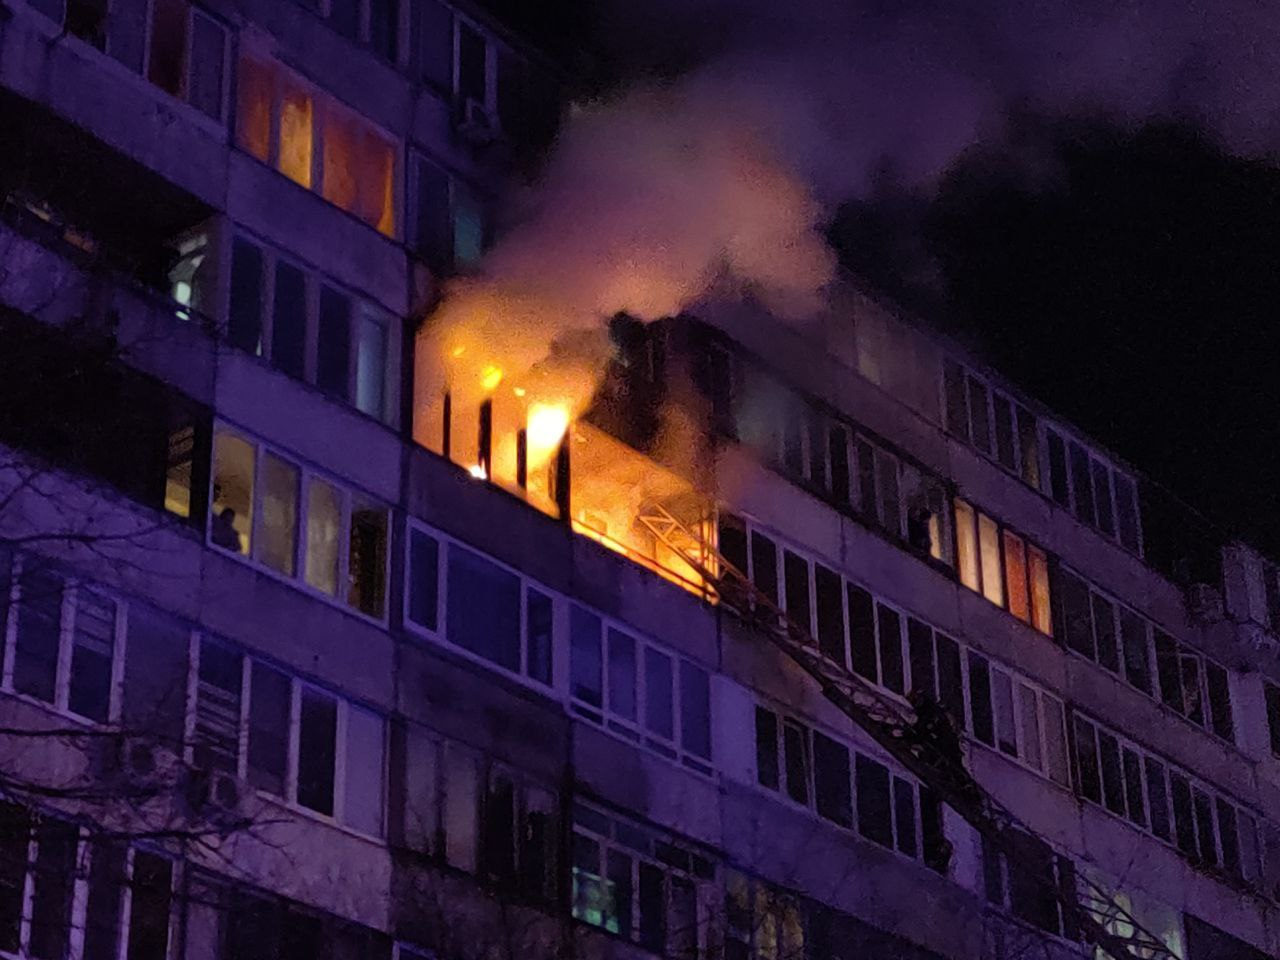fire: (462, 44, 851, 565)
